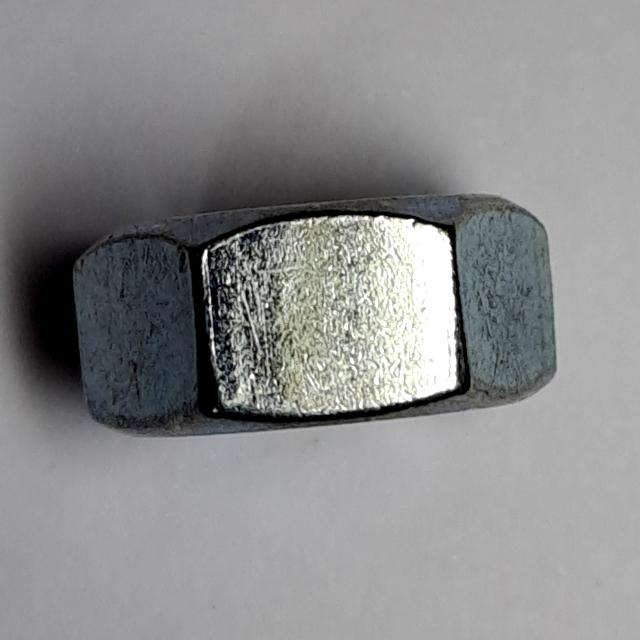Side_Excellent: (59, 175, 580, 449)
